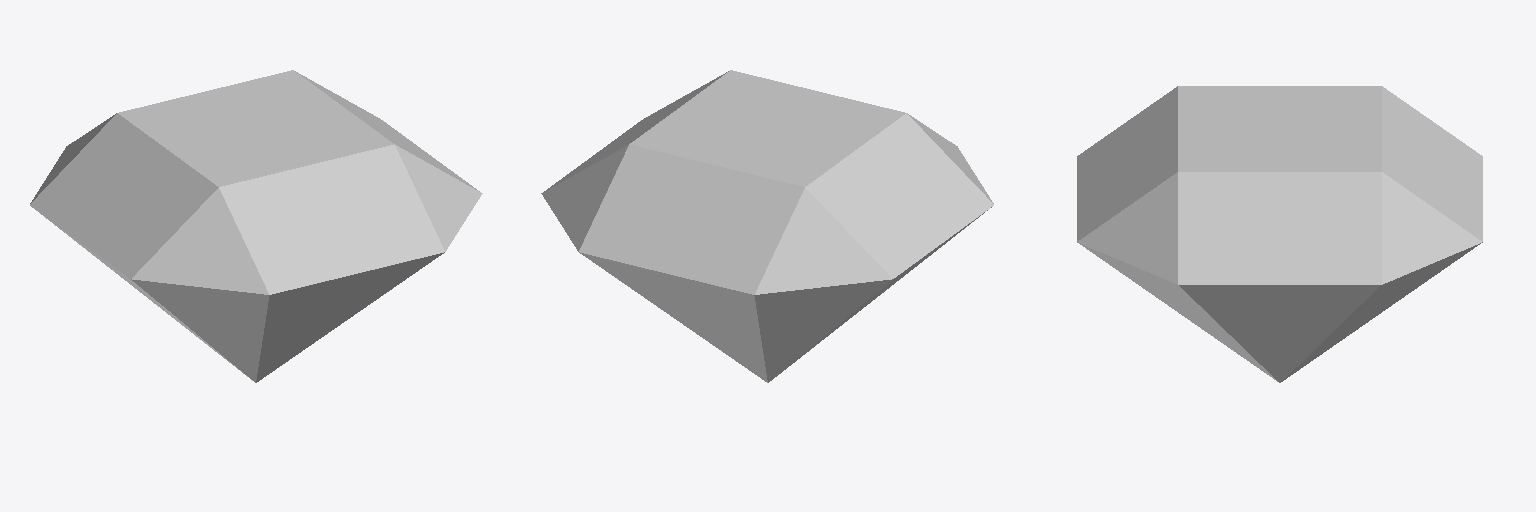
The model's file is Gem.obj.
The picture shows the model from 3 angles: view 1: azimuth 30°, elevation 25°; view 2: azimuth 150°, elevation 25°; view 3: azimuth 270°, elevation 25°; orthographic projection.
Parts seen in each view (by area): view 1: Cube; view 2: Cube; view 3: Cube.
Boxes of the visible parts, box(x1,y1,x2,y2) form: Cube: box(30, 70, 482, 382); Cube: box(541, 70, 993, 382); Cube: box(1077, 86, 1482, 382).
Bounding box in the file's own units: 2 × 1.38 × 2.